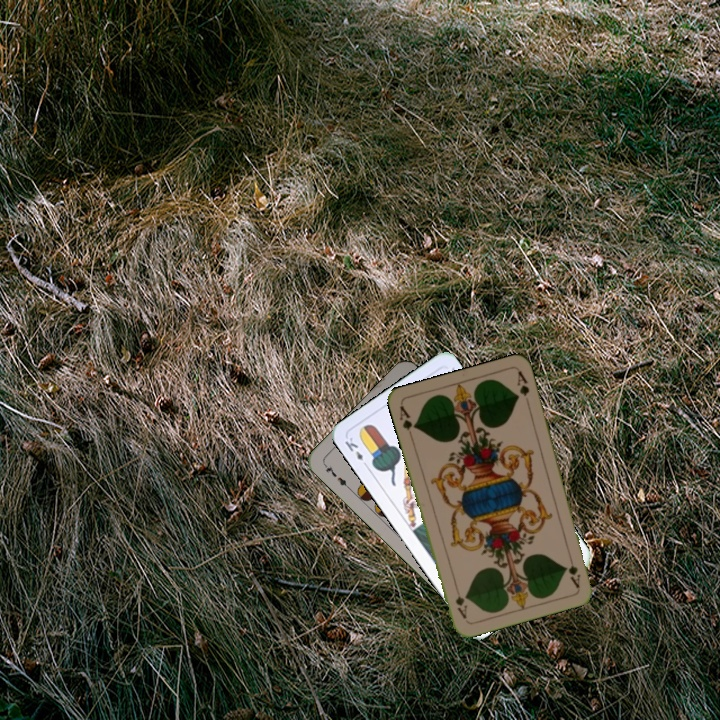E7: (320, 460, 352, 492)
EK: (341, 433, 371, 470)
GA: (396, 402, 419, 442), (564, 550, 583, 590)
